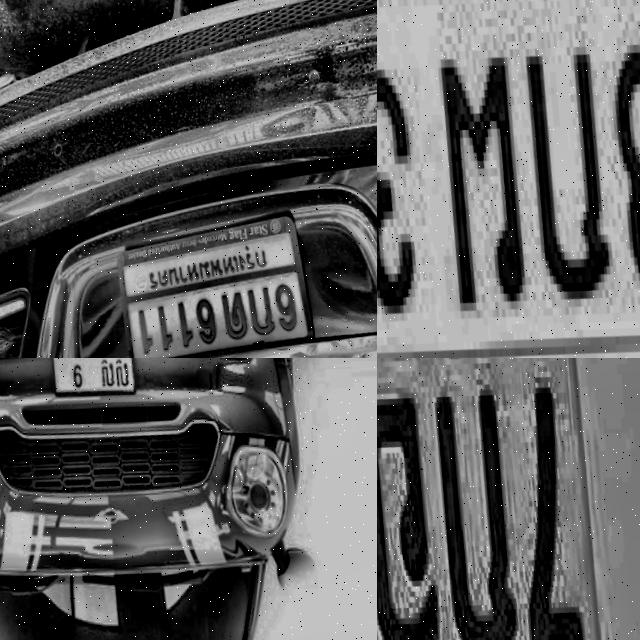license-plate: (377, 0, 640, 358), (377, 358, 640, 640), (107, 183, 327, 358), (40, 358, 145, 407)
